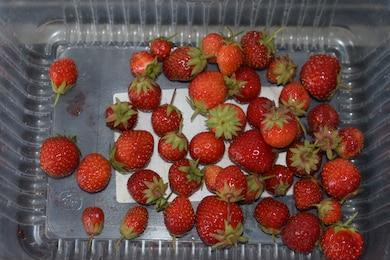Fresa: (193, 193, 247, 249), (297, 50, 347, 102), (314, 155, 365, 205), (184, 67, 233, 118), (109, 127, 157, 176), (37, 133, 83, 181), (279, 210, 326, 255), (161, 43, 210, 86), (320, 219, 368, 260), (122, 165, 169, 206), (281, 137, 325, 180), (259, 106, 299, 150), (162, 191, 197, 241), (76, 151, 114, 195), (212, 161, 250, 205), (251, 195, 293, 234), (124, 76, 166, 114), (276, 76, 313, 119), (166, 158, 205, 197), (226, 63, 263, 104), (149, 99, 186, 139), (304, 101, 341, 141), (186, 130, 227, 166), (102, 97, 141, 134), (238, 30, 275, 68), (49, 55, 80, 96), (290, 175, 324, 212), (119, 201, 150, 240), (127, 48, 162, 78), (265, 55, 297, 86), (157, 132, 189, 161), (79, 205, 106, 238), (148, 33, 173, 61)
